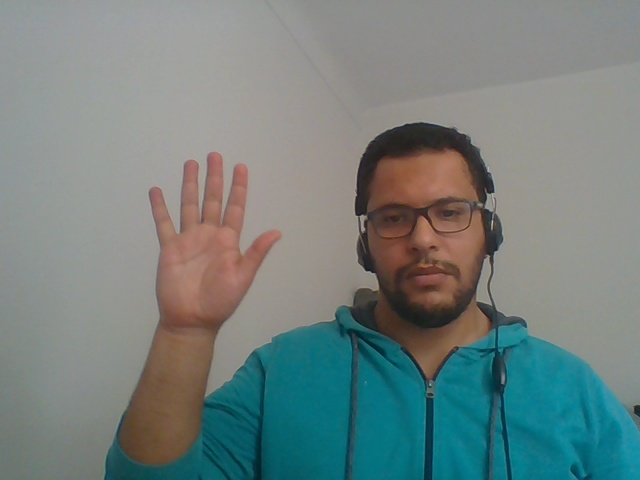hello: (107, 136, 292, 375)
